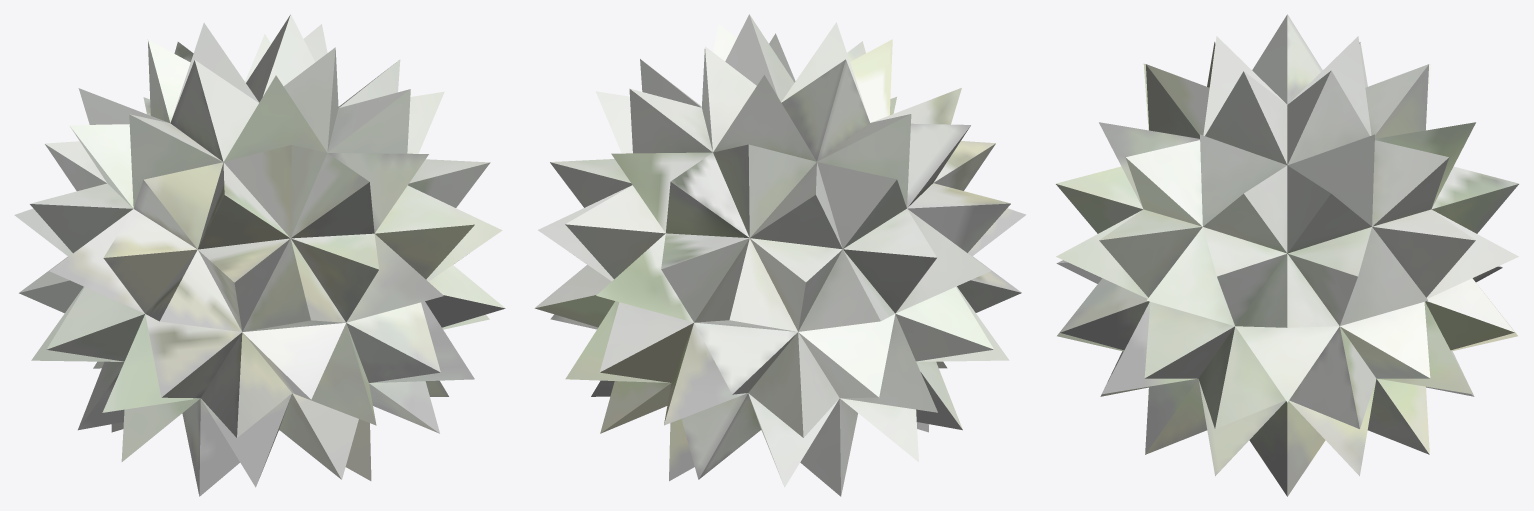
File: Dandelion_head.glb
3 views of the same model, side by side, from view 1: azimuth 30°, elevation 25°; view 2: azimuth 150°, elevation 25°; view 3: azimuth 270°, elevation 25° (orthographic).
Visible parts, largest first — view 1: Dandelion_head; view 2: Dandelion_head; view 3: Dandelion_head.
Part boxes in pixels (bbox=[...]): Dandelion_head: bbox=[14, 14, 505, 496]; Dandelion_head: bbox=[534, 14, 1026, 496]; Dandelion_head: bbox=[1056, 14, 1518, 496].
Size of the model in its own units: 0.5513 by 0.4876 by 0.5257.
1 material, 1 textured.
